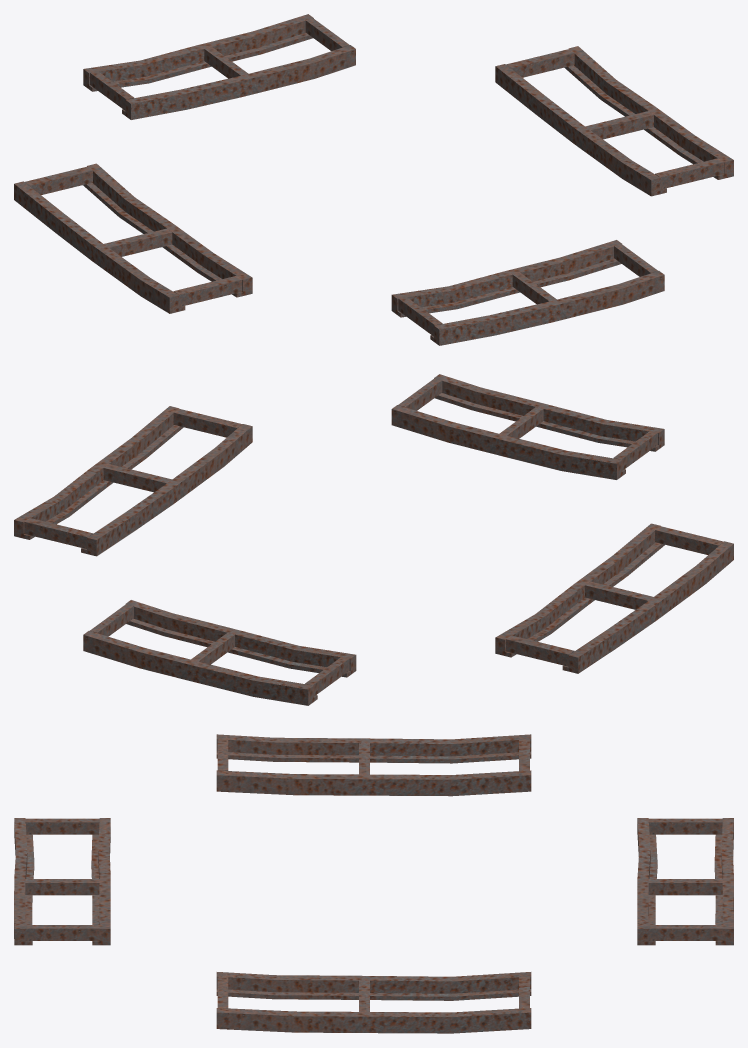
File: SM_LDFest_12_Metal_00.fbx
The picture shows the model from 3 angles, top to bottom: view 1: azimuth 30°, elevation 25°; view 2: azimuth 150°, elevation 25°; view 3: azimuth 270°, elevation 25°; orthographic projection.
Parts seen in each view (by area): view 1: SM_LDFest_12_Metal_00; view 2: SM_LDFest_12_Metal_00; view 3: SM_LDFest_12_Metal_00.
Part boxes in pixels (x1,y1,x2,y2): SM_LDFest_12_Metal_00: (14, 14, 733, 345); SM_LDFest_12_Metal_00: (14, 374, 733, 705); SM_LDFest_12_Metal_00: (14, 734, 733, 1033).
Size of the model in its own units: 2046 by 73.49 by 2237.
